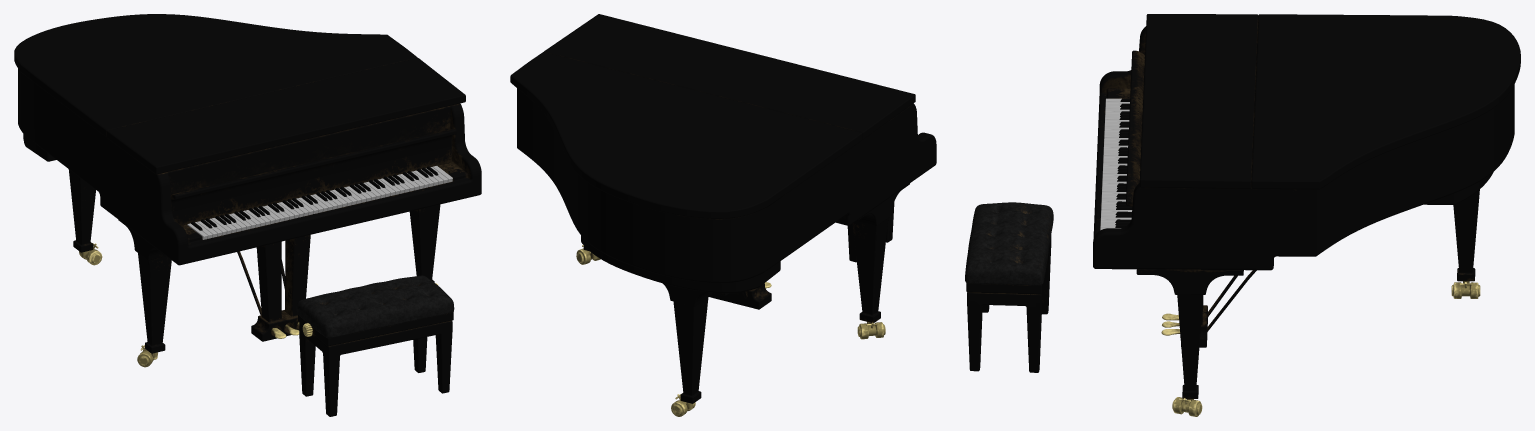
Rendered from edited.gltf.
3 views of the same model, side by side, from view 1: azimuth 30°, elevation 25°; view 2: azimuth 150°, elevation 25°; view 3: azimuth 270°, elevation 25° (orthographic). The views are drawn at different scales.
Parts seen in each view (by area): view 1: Piano, bench; view 2: Piano, bench; view 3: Piano, bench.
Boxes of the visible parts, x1,y1,x2,y2 form: Piano: (14,14,481,367); bench: (296,275,454,416); Piano: (510,14,936,416); bench: (847,202,894,262); Piano: (1093,14,1520,416); bench: (965,202,1053,372).
Bounding box in the file's own units: 1.54 × 1.04 × 2.16.
Materials: 2 (2 with a texture image).
